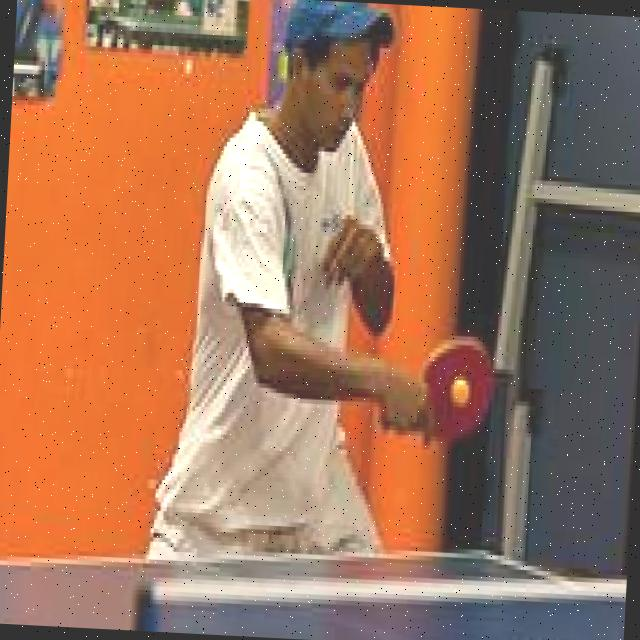ping-pong-ball: (448, 375, 472, 407)
